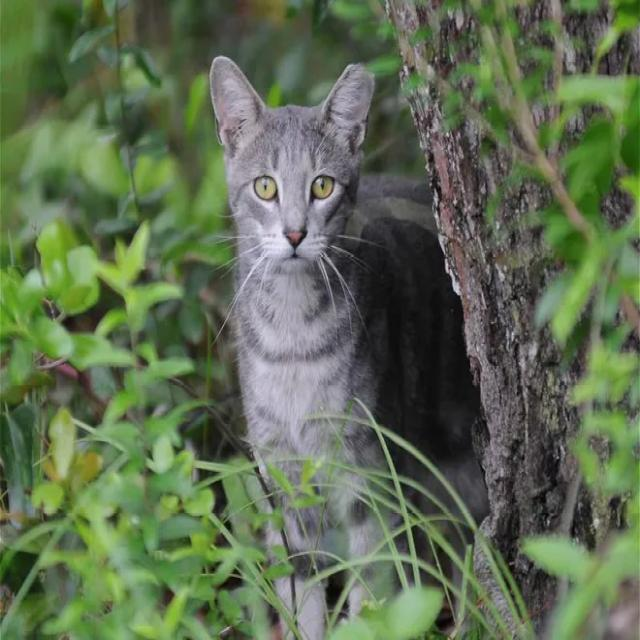cat: (210, 57, 478, 638), (348, 567, 375, 616)
